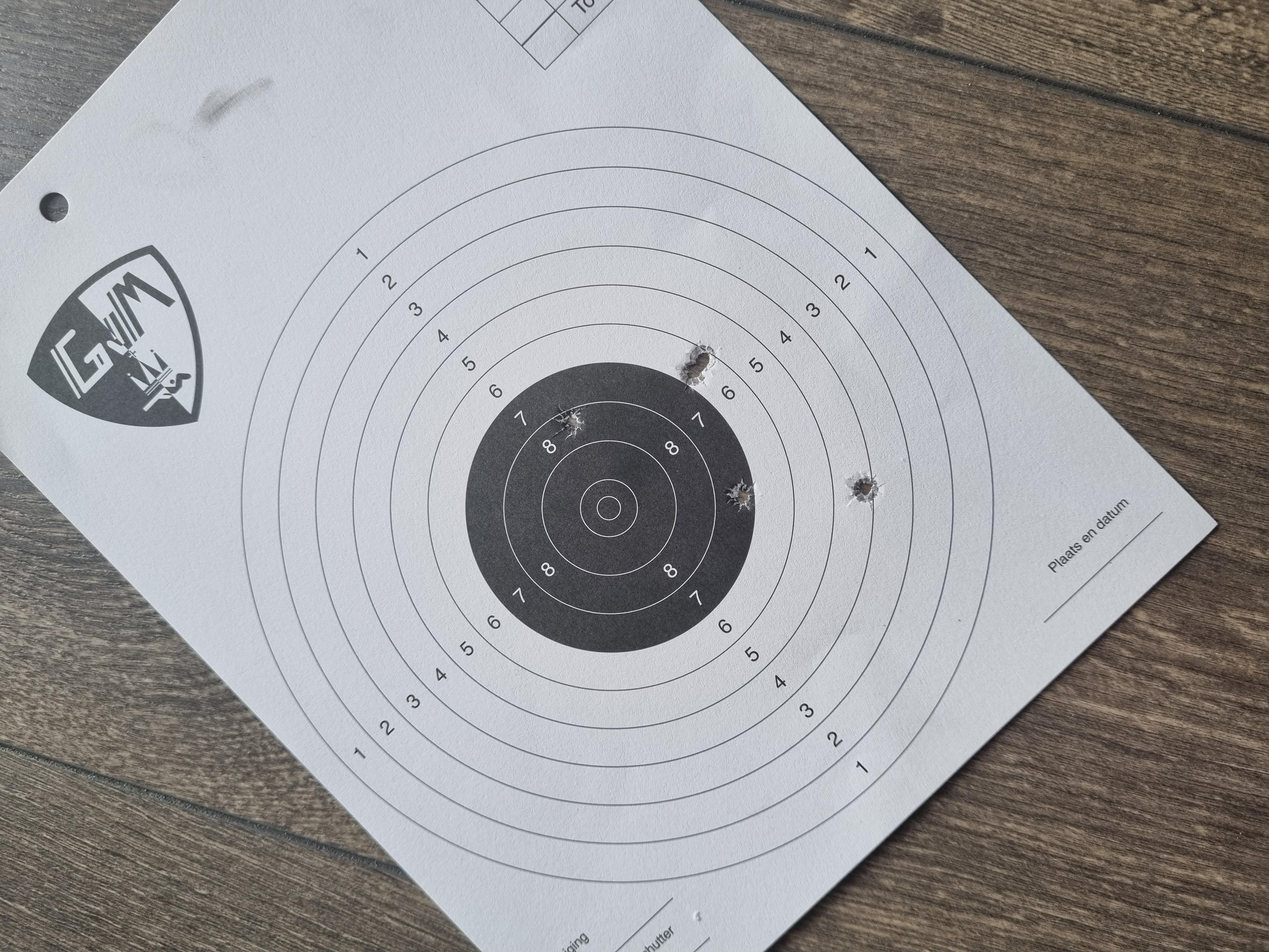hole: (679, 415, 730, 441), (597, 637, 638, 663), (589, 544, 628, 565), (750, 506, 783, 529), (782, 518, 812, 536)
